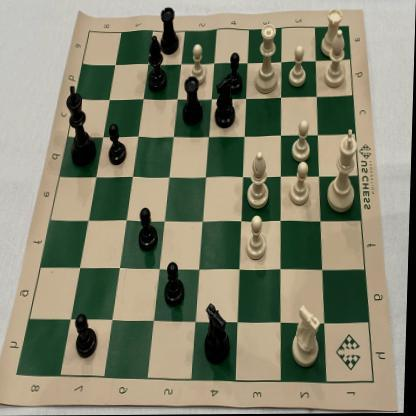black-bishop: (146, 33, 171, 95)
black-king: (63, 81, 100, 169)
black-knight: (202, 297, 235, 369), (212, 74, 238, 132)
black-pawn: (163, 257, 191, 311), (75, 310, 103, 361), (138, 204, 162, 256), (106, 120, 129, 168), (223, 51, 247, 96)
black-rook: (178, 74, 206, 127), (155, 7, 182, 58)
white-bishop: (246, 148, 274, 212), (323, 28, 350, 90)
white-king: (326, 126, 364, 216)
white-knight: (289, 301, 326, 372)
white-pawn: (244, 212, 272, 264), (289, 159, 317, 208), (285, 42, 311, 92), (186, 40, 210, 89), (291, 116, 315, 164)
white-queen: (252, 20, 284, 98)
white-rook: (318, 2, 347, 60)
